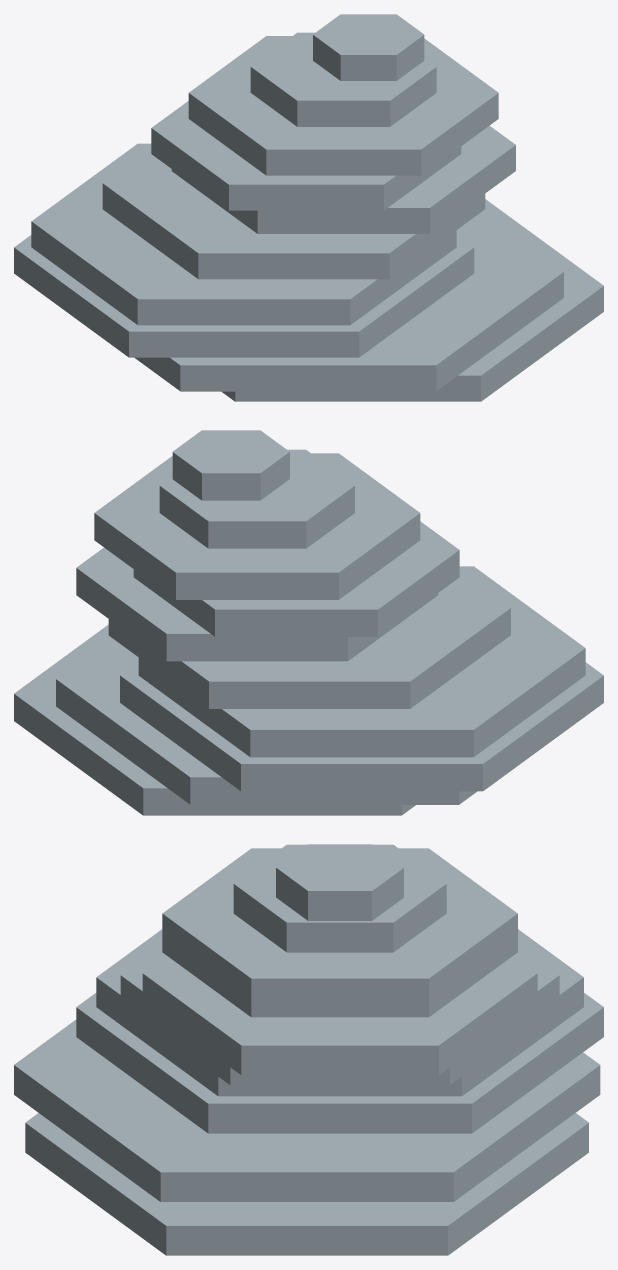
The model's file is Rock_11.fbx.
The picture shows the model from 3 angles, top to bottom: view 1: azimuth 30°, elevation 25°; view 2: azimuth 150°, elevation 25°; view 3: azimuth 270°, elevation 25°; orthographic projection. The views are drawn at different scales.
Parts seen in each view (by area): view 1: Cylinder.006; view 2: Cylinder.006; view 3: Cylinder.006.
Part boxes in pixels (x1,y1,x2,y2): Cylinder.006: (14,14,603,401); Cylinder.006: (14,430,603,815); Cylinder.006: (14,844,603,1255).
Bounding box in the file's own units: 3.67 × 2 × 3.58.
